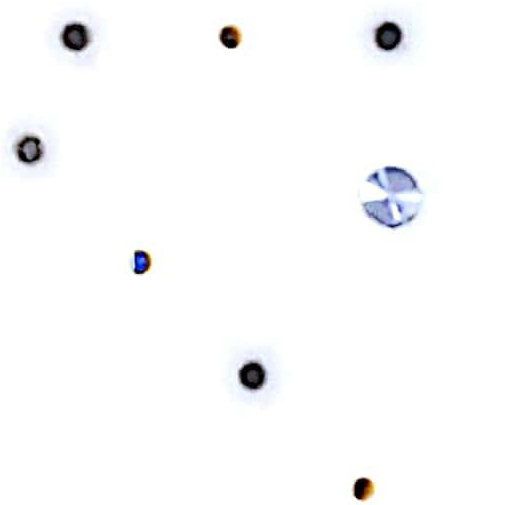abnormal: (347, 151, 439, 239)
cancer: (204, 324, 290, 417), (1, 118, 72, 191), (349, 1, 421, 72), (44, 7, 119, 72)
normal: (116, 236, 167, 295), (206, 13, 253, 61), (343, 467, 384, 504)
